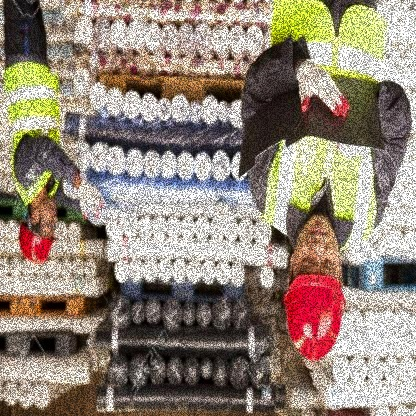red: (278, 268, 352, 366), (16, 221, 57, 268)
vest: (267, 2, 385, 252), (3, 55, 64, 204)
